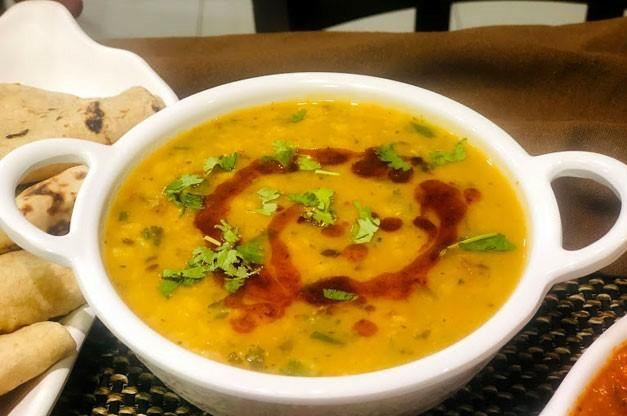Dal: (105, 104, 526, 378)
